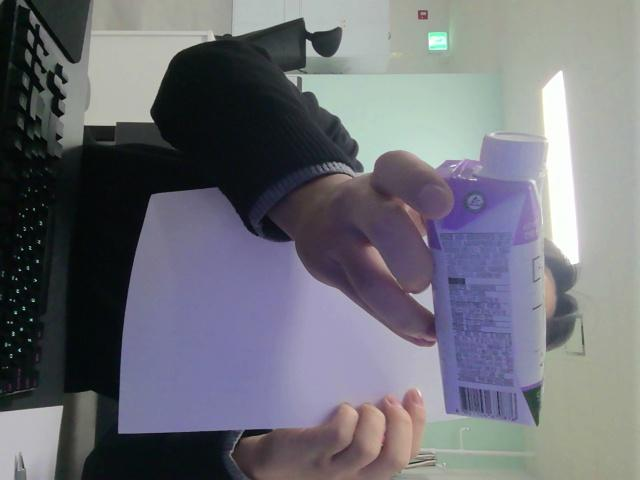milk: (427, 132, 546, 425)
